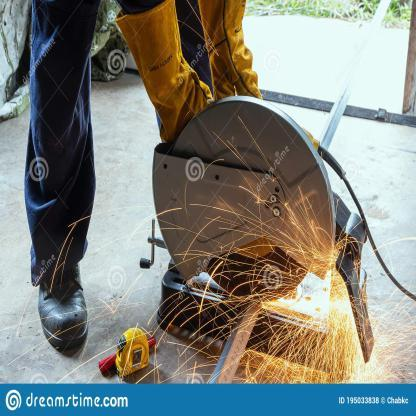bota: (36, 276, 92, 351)
